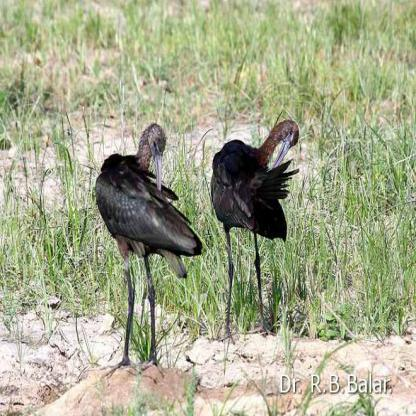Burung: (95, 123, 204, 374), (211, 119, 305, 340)
